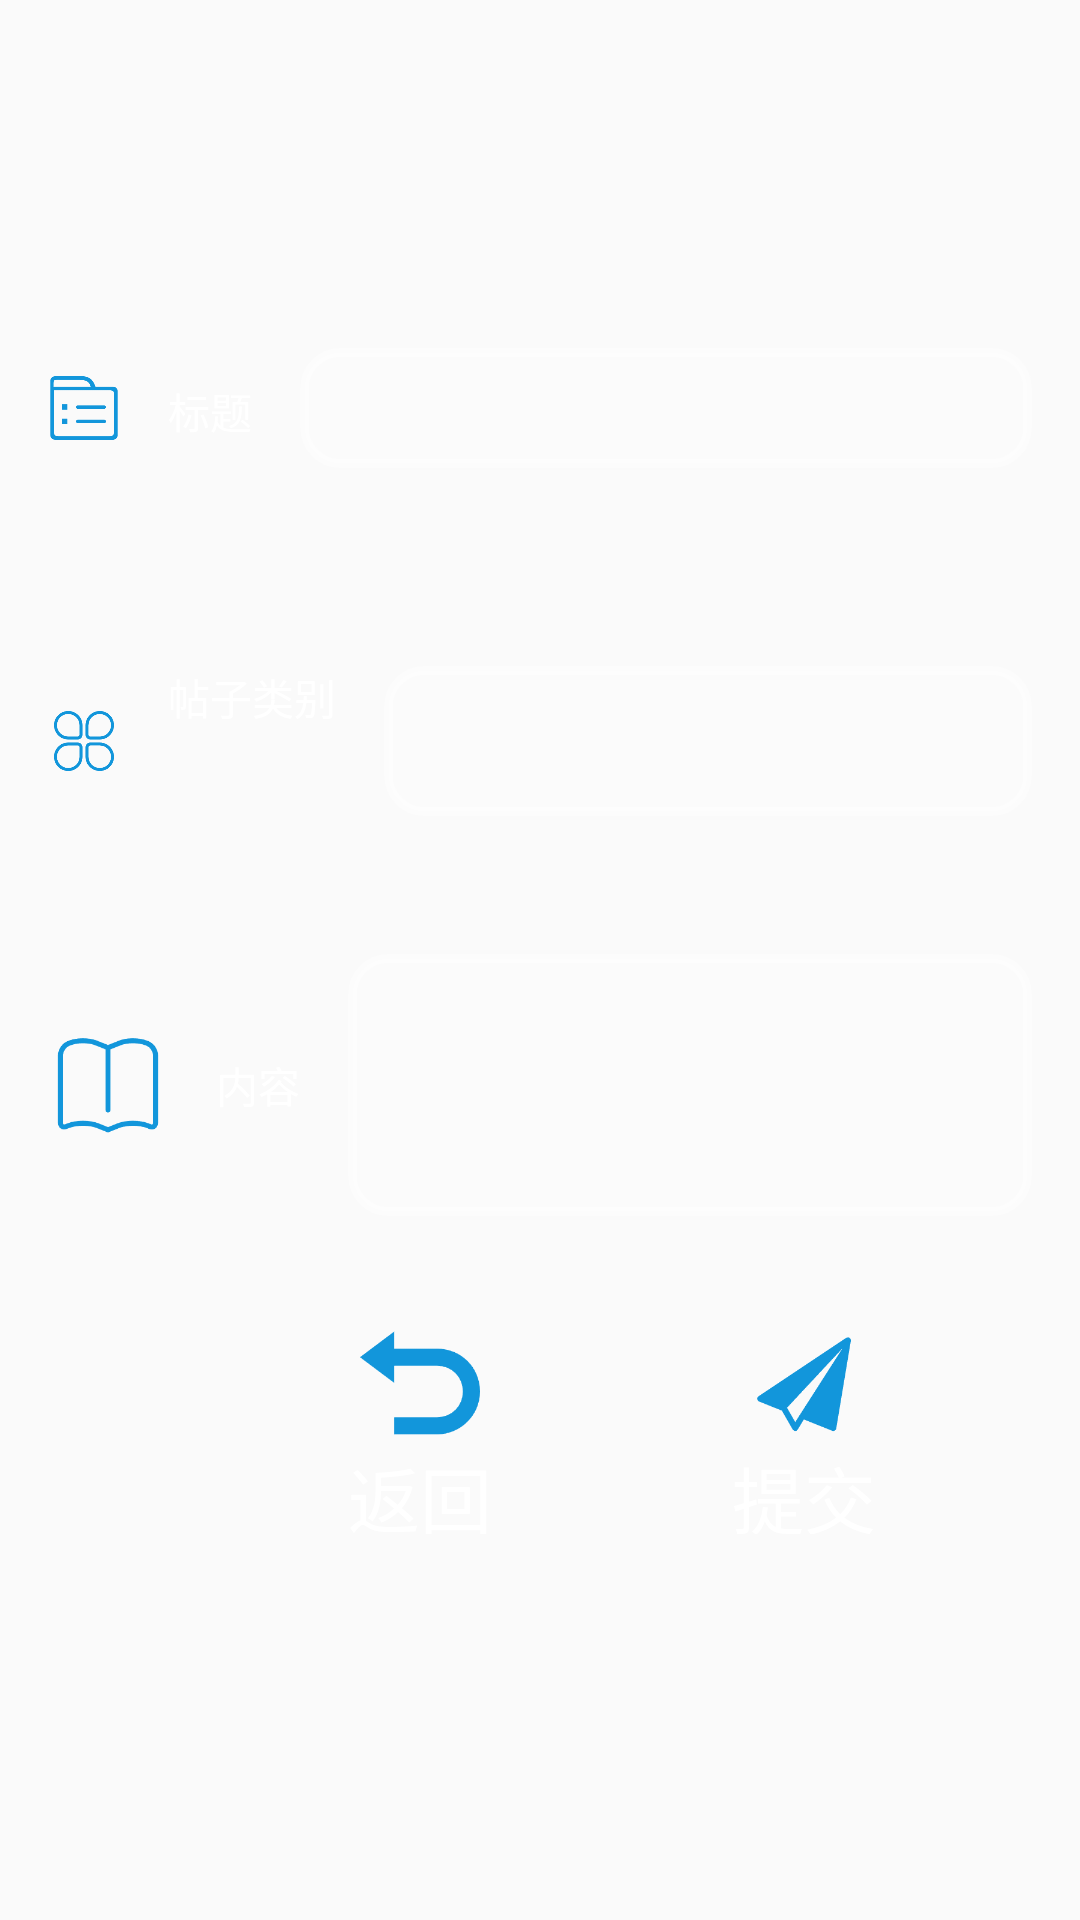

Screen size 1080w x 1920h. Icon name, then its box in pixels as (x1, y1, x2, y2):
postfl: (54, 711, 114, 771)
postnr: (57, 1038, 159, 1133)
posttj: (757, 1337, 851, 1431)
